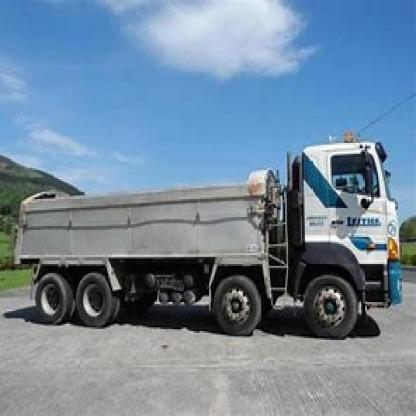dump_truck: (9, 123, 414, 340)
